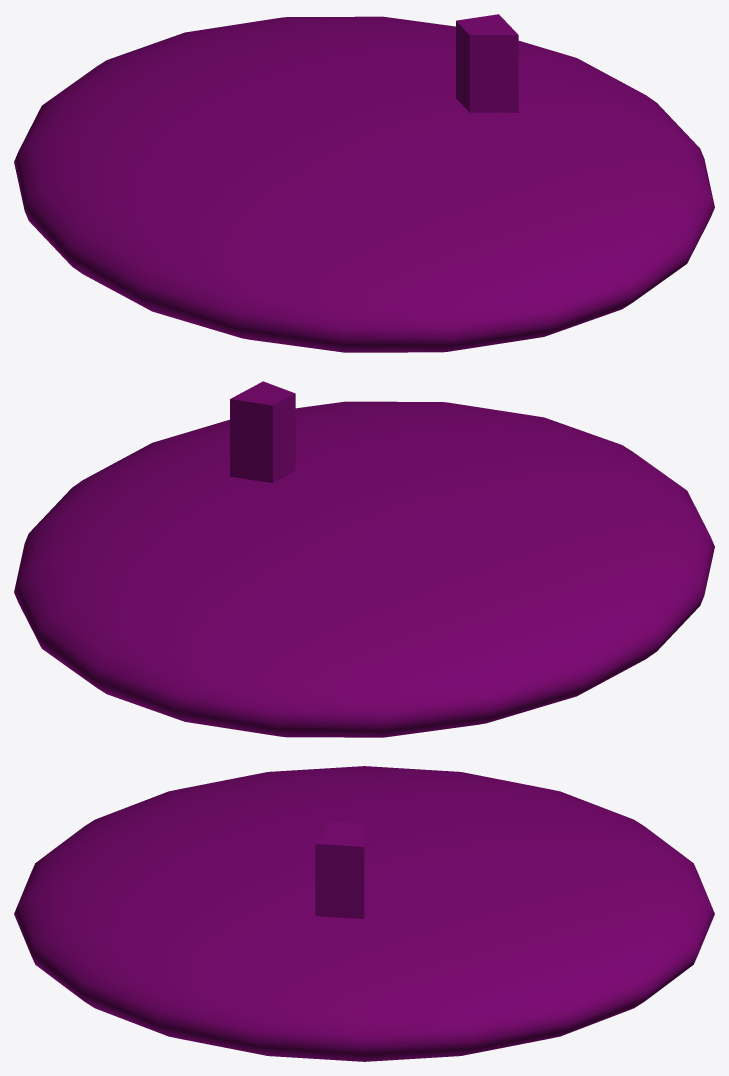
File: teki.fbx
The picture shows the model from 3 angles, top to bottom: view 1: azimuth 30°, elevation 25°; view 2: azimuth 150°, elevation 25°; view 3: azimuth 270°, elevation 25°; orthographic projection. The views are drawn at different scales.
Visible parts, largest first — view 1: pSphere1; view 2: pSphere1; view 3: pSphere1.
Boxes of the visible parts, x1,y1,x2,y2 form: pSphere1: (14,14,714,352); pSphere1: (14,381,714,737); pSphere1: (14,766,714,1061).
Size of the model in its own units: 4.87 by 1.65 by 5.38.
